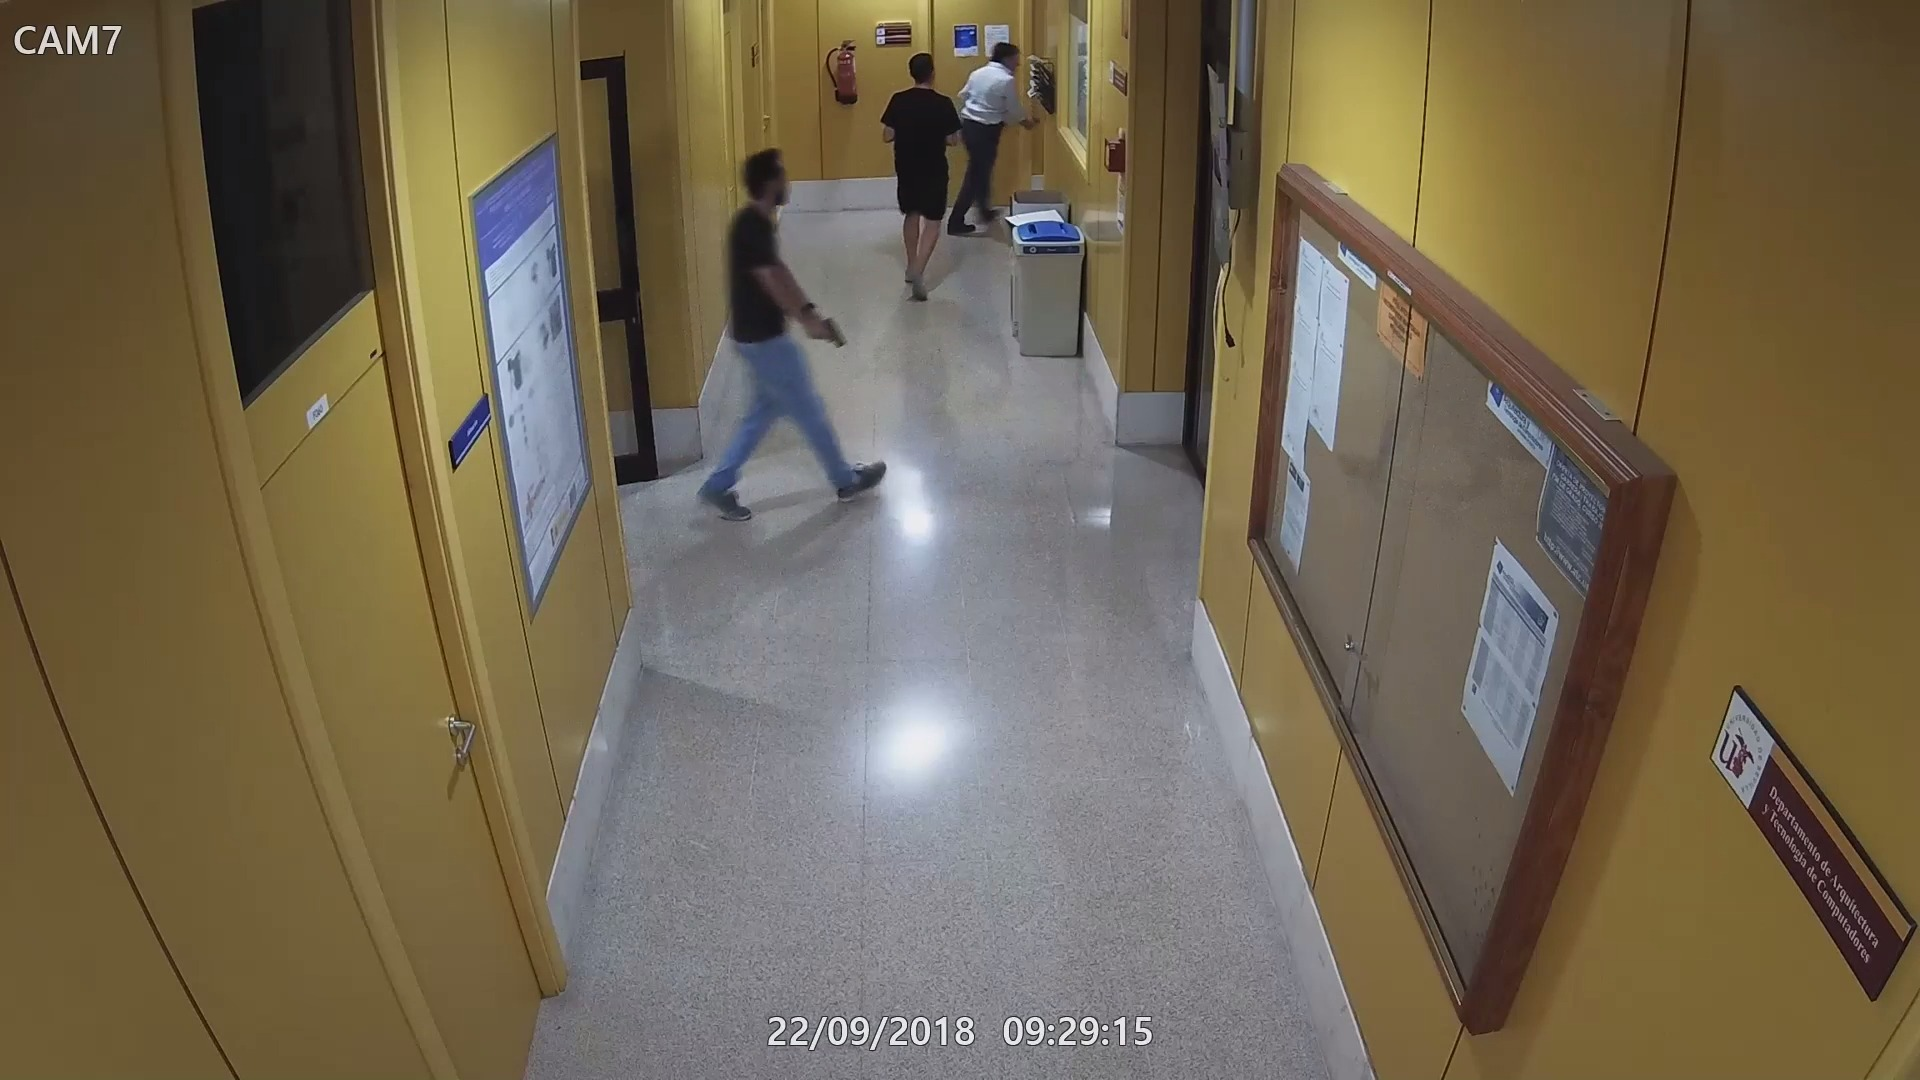Handgun: (816, 314, 853, 348)
